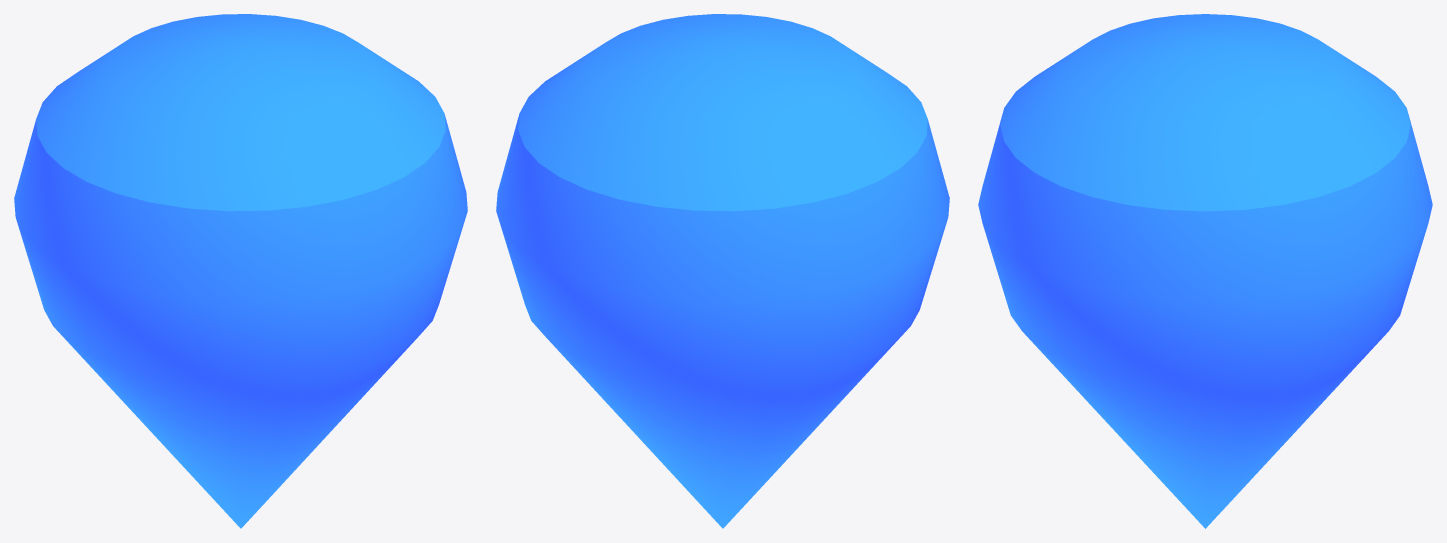
File: location0315.glb
The picture shows the model from 3 angles, left to right: view 1: azimuth 30°, elevation 25°; view 2: azimuth 150°, elevation 25°; view 3: azimuth 270°, elevation 25°; orthographic projection.
Visible parts, largest first — view 1: 锥体; view 2: 锥体; view 3: 锥体.
Boxes of the visible parts, x1,y1,x2,y2 form: 锥体: [14, 14, 467, 528]; 锥体: [496, 14, 949, 528]; 锥体: [978, 14, 1432, 528].
Bounding box in the file's own units: 0.9512 × 1.1 × 0.9512.
